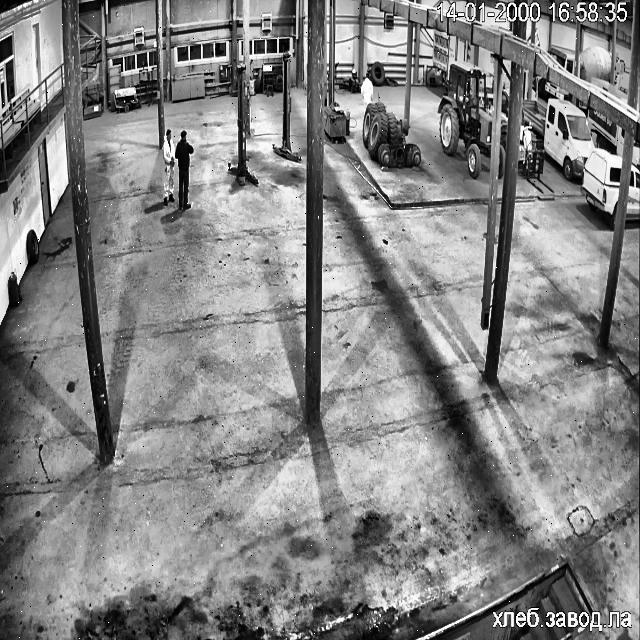car lift: (228, 65, 257, 185), (272, 52, 300, 161)
fire extinguisher: (8, 272, 21, 306)
mechanic: (175, 131, 193, 209), (164, 130, 175, 204), (360, 73, 372, 110)
tractor: (438, 61, 492, 178), (362, 102, 420, 166), (498, 143, 504, 177)
truck: (524, 100, 593, 179), (581, 148, 620, 228), (588, 108, 624, 156), (592, 78, 626, 103), (548, 45, 574, 73), (536, 76, 565, 100), (627, 166, 640, 219), (632, 142, 640, 164)
